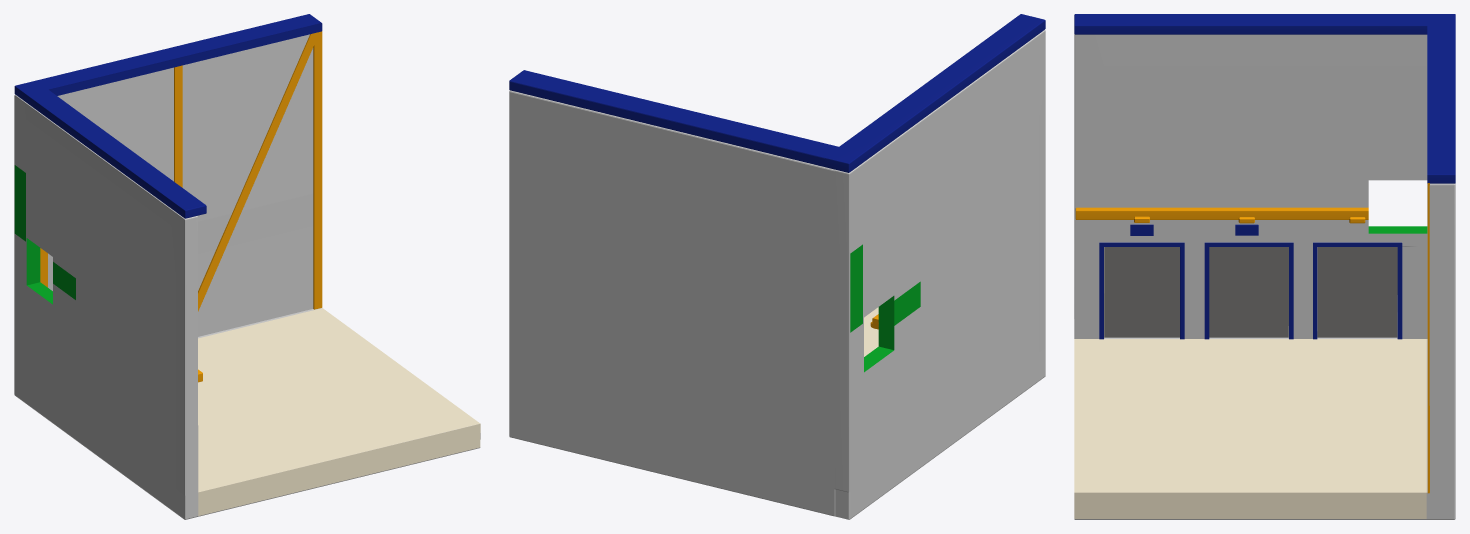
Rendered from cube_sta2.fbx.
3 renders of one model, left to right at view 1: azimuth 30°, elevation 25°; view 2: azimuth 150°, elevation 25°; view 3: azimuth 270°, elevation 25°, orthographic. The views are drawn at different scales.
Visible parts, largest first — view 1: polySurface61; view 2: polySurface61; view 3: polySurface61.
Part boxes in pixels (<box>): polySurface61: <box>14,14,480,519</box>; polySurface61: <box>509,14,1045,519</box>; polySurface61: <box>1074,14,1455,519</box>.
Bounding box in the file's own units: 6.49 × 6.5 × 6.5.
